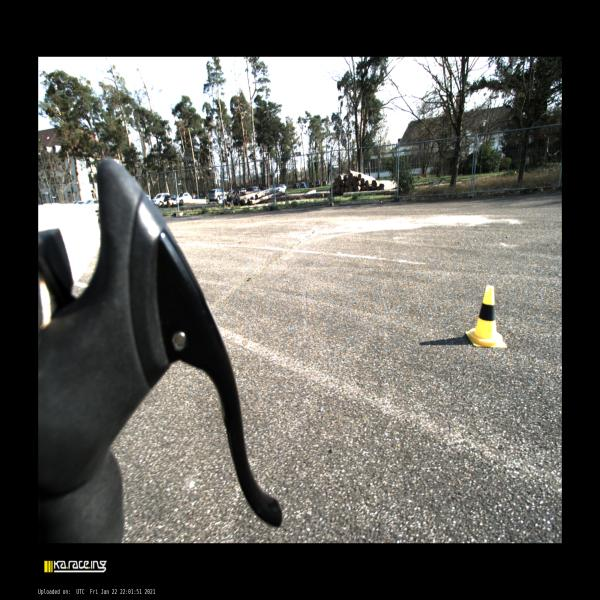yellow_cone: (465, 286, 507, 348)
